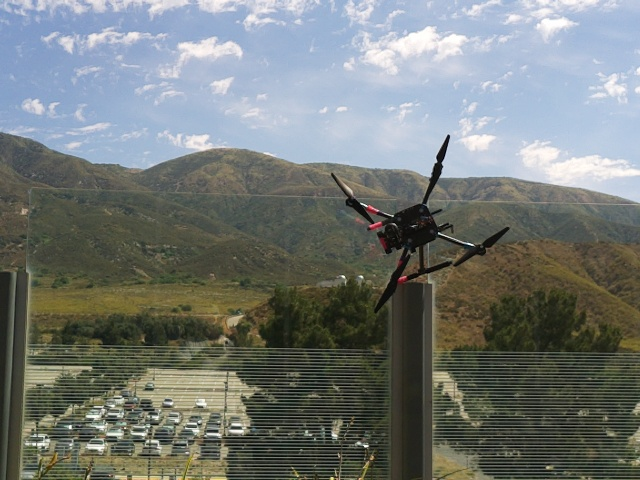quadcopter: (327, 120, 526, 325)
